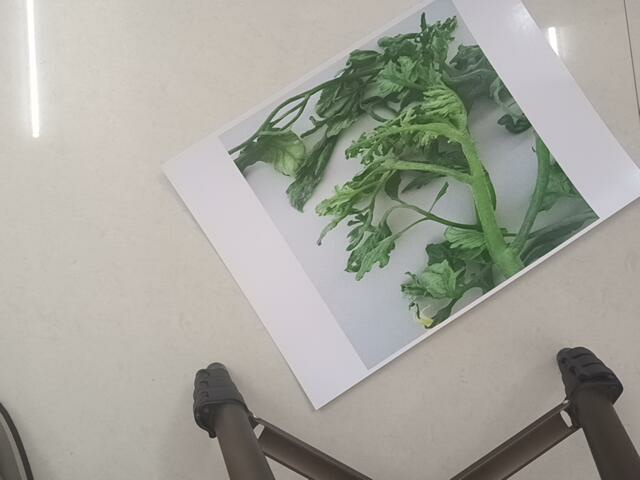Tomamto_Mosaic_virus: (244, 21, 585, 324)
